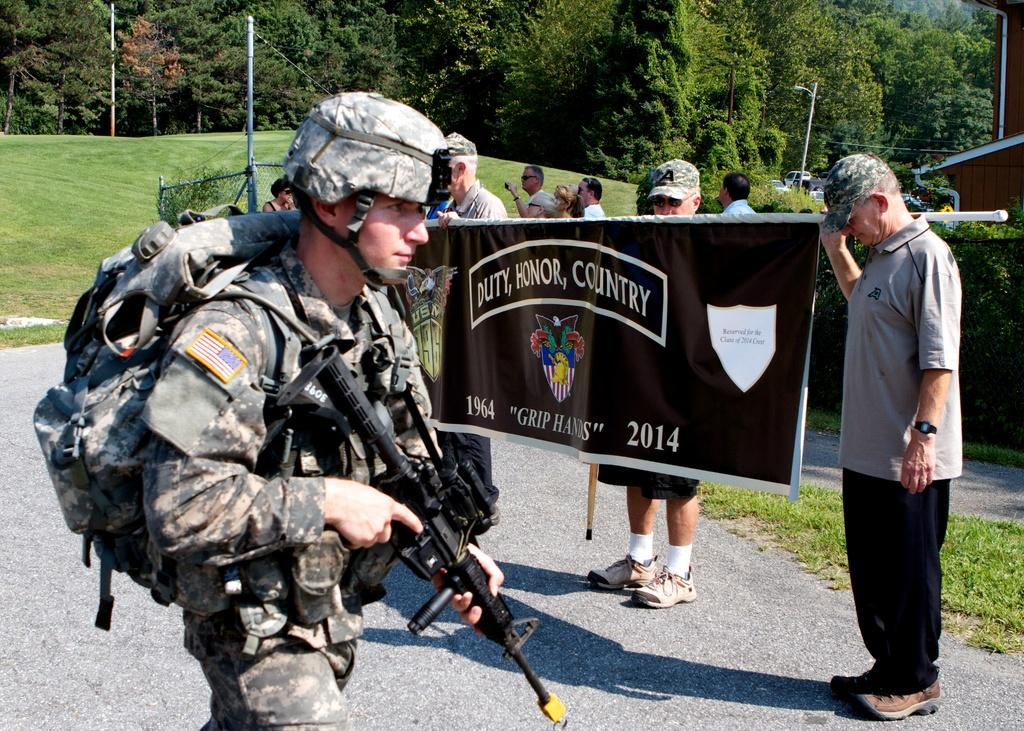Shotgun: (278, 345, 564, 727)
